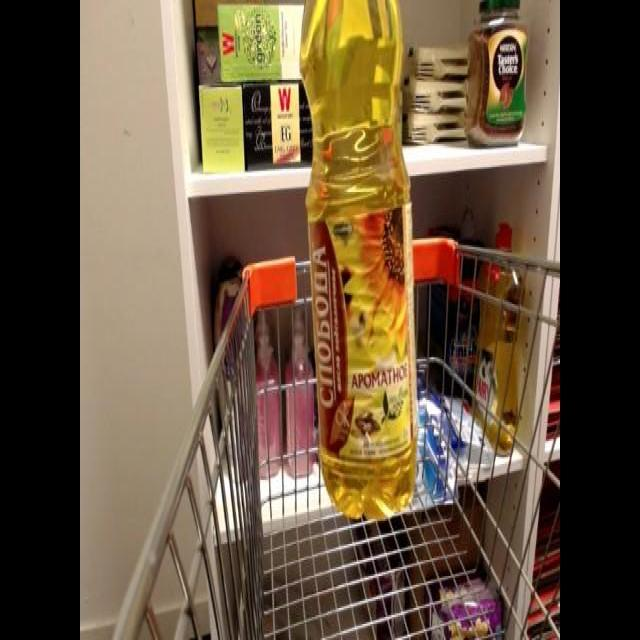Oil: (294, 1, 424, 527)
